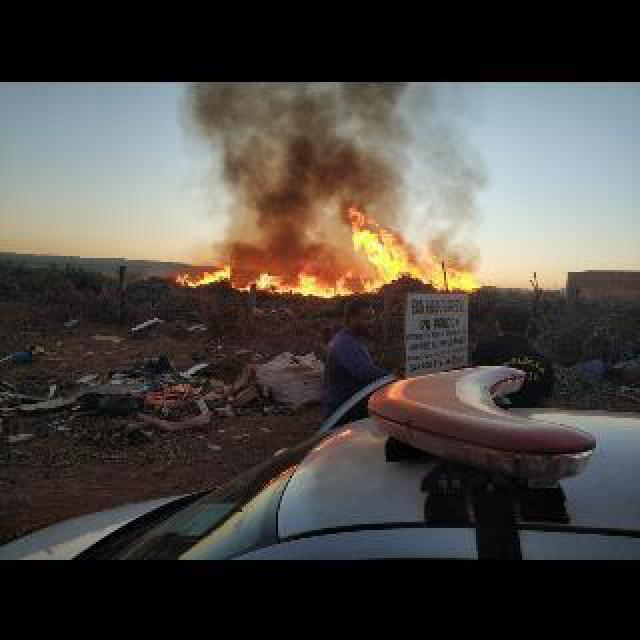Fire: (346, 214, 482, 296), (172, 264, 350, 296)
Smoke: (172, 78, 406, 262)
